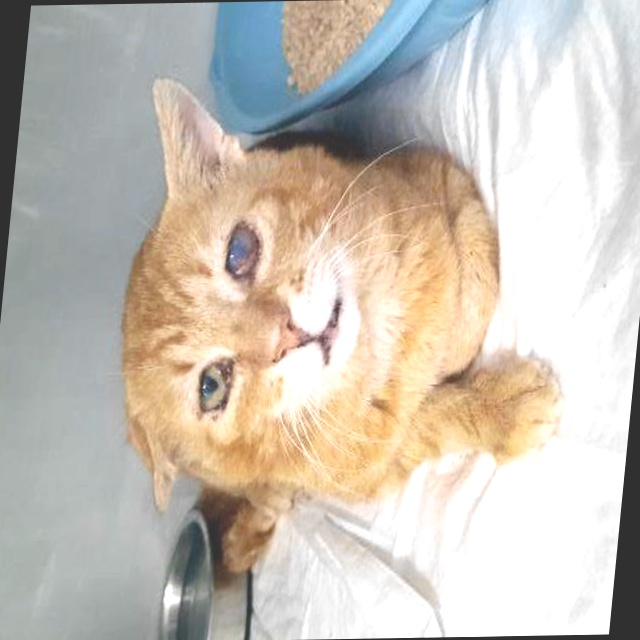eye_infection: (217, 223, 270, 283), (191, 355, 240, 417)
